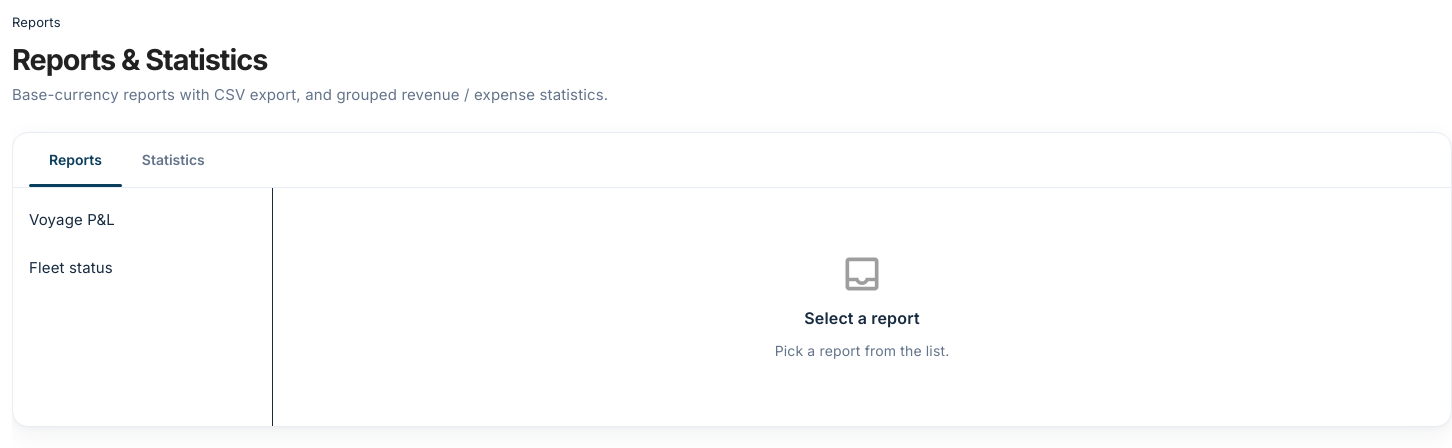
it: ReportsPage › builds the statistics tab from the metric catalogue and labels hour metrics in hours
Click the tab "Statistics".
click(173, 160)  # box [122,133,225,187]
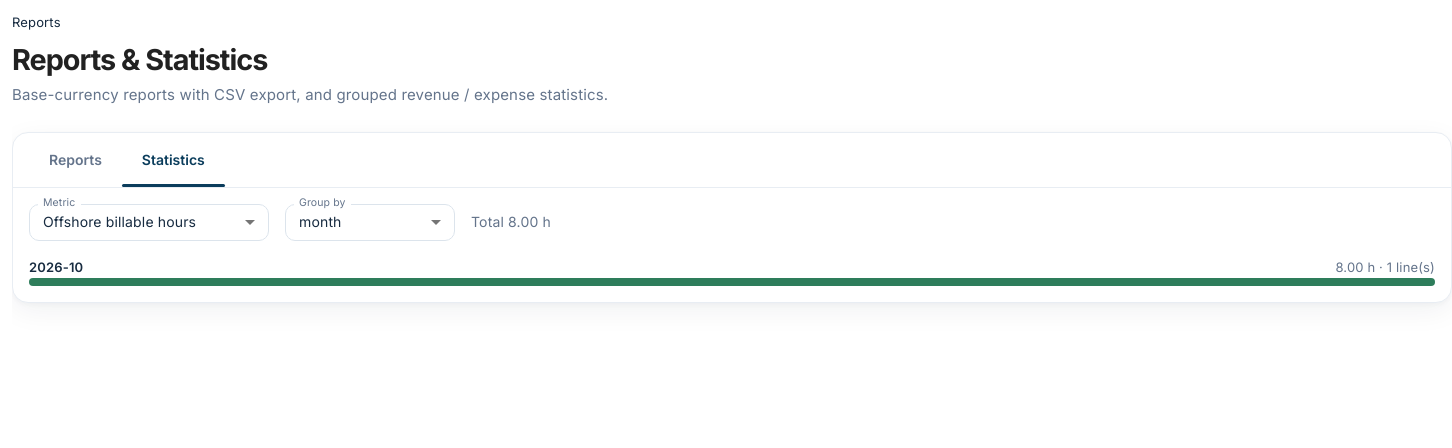
Expected: the text "Total 8.00 h" is shown, [471,211,551,233]
Expected: the text "8.00 h · 1 line(s)" is shown, [1335,257,1435,278]
